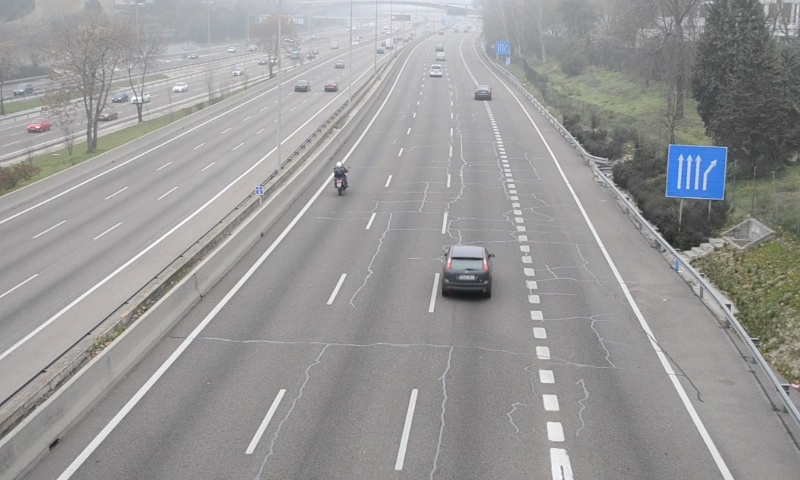car: (441, 246, 490, 296), (474, 85, 491, 100), (430, 64, 442, 78)
motorcycle: (330, 162, 349, 199)
